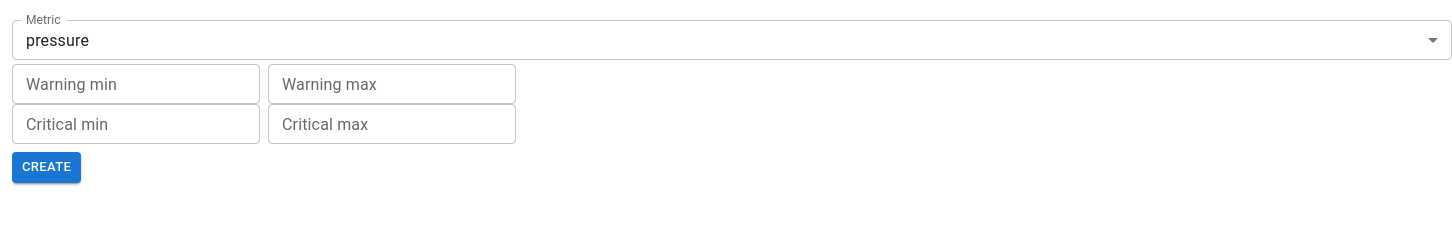
Scenario: ThresholdForm › rejects a non-numeric band
Type "not-a-number" into the field labelled "Warning max". click: (392, 84)
box: [268,64,516,104]
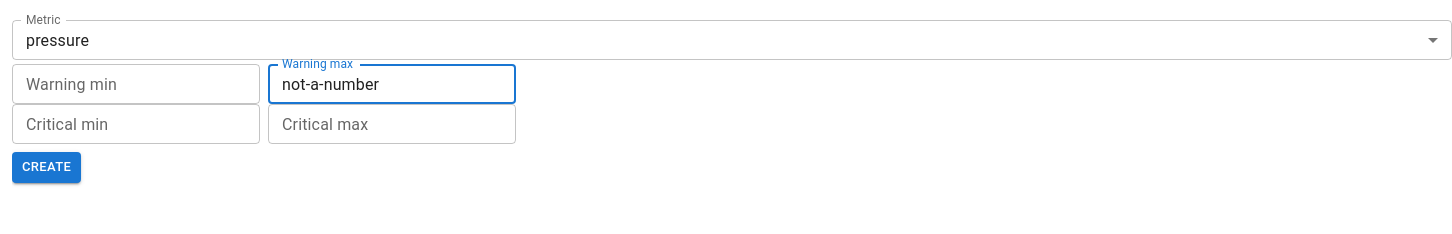
Click the button "Create". click: (47, 167)
box: [12,152,81,183]
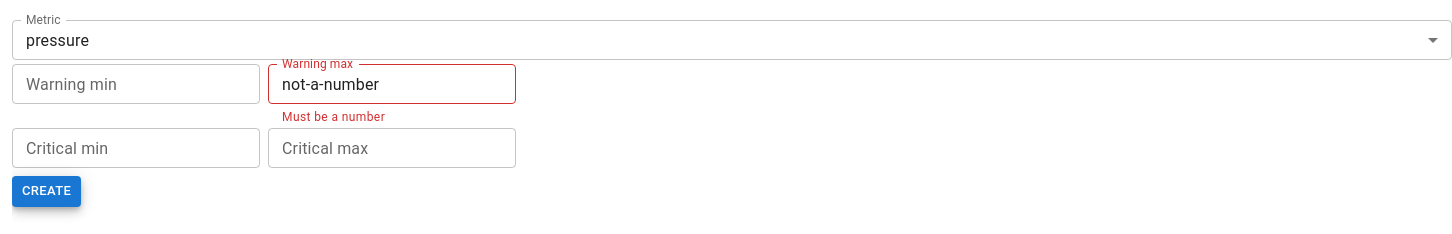
Expected: the text "Must be a number" is shown, [282,110,385,124]
